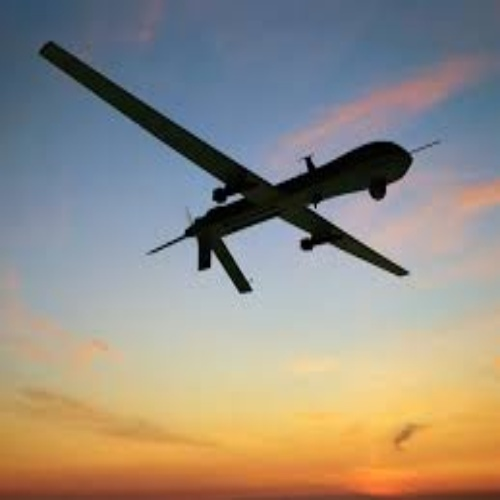uav264: (36, 41, 414, 294)
